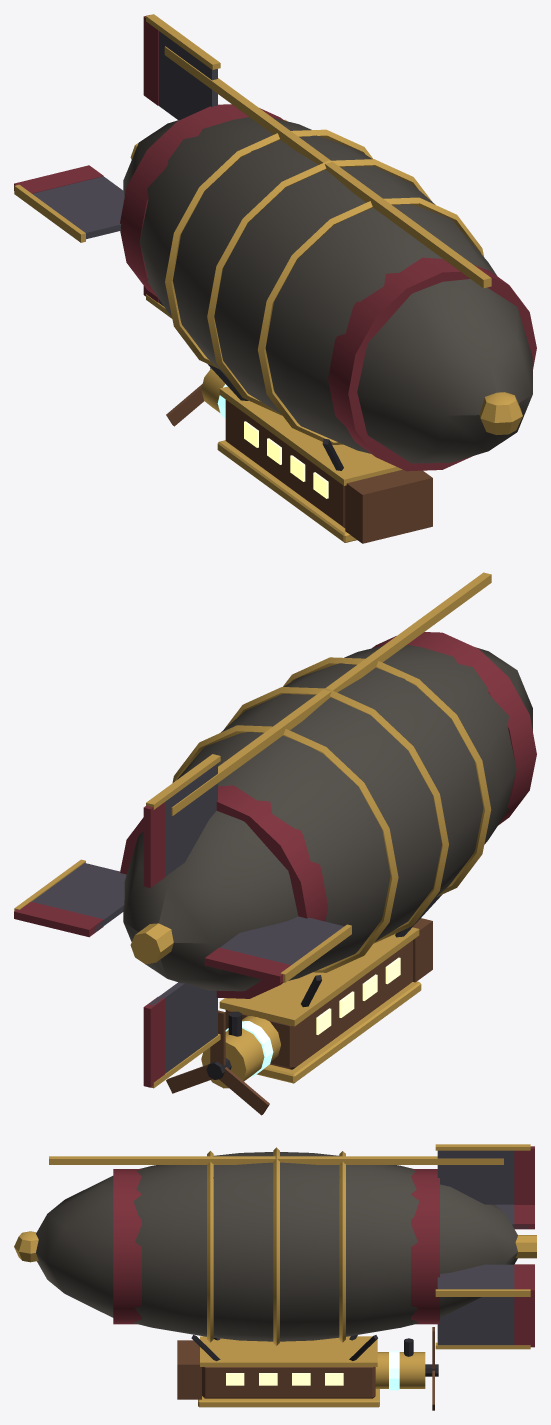
The model's file is Dirigivel.fbx.
The picture shows the model from 3 angles, top to bottom: view 1: azimuth 30°, elevation 25°; view 2: azimuth 150°, elevation 25°; view 3: azimuth 270°, elevation 25°; orthographic projection. The views are drawn at different scales.
Visible parts, largest first — view 1: Corpo, JanelaAndar0, Helice; view 2: Corpo, Helice, JanelaAndar0; view 3: Corpo, JanelaAndar0, CristalPulso, Helice.
Part boxes in pixels (left/top/right/bottom): Corpo: left=14, top=14, right=536, bottom=543; JanelaAndar0: left=244, top=421, right=328, bottom=498; Helice: left=166, top=367, right=210, bottom=426; Corpo: left=14, top=572, right=536, bottom=1088; Helice: left=166, top=1010, right=269, bottom=1115; JanelaAndar0: left=316, top=957, right=400, bottom=1034; Corpo: left=14, top=1144, right=536, bottom=1407; JanelaAndar0: left=226, top=1373, right=343, bottom=1385; CristalPulso: left=389, top=1350, right=399, bottom=1390; Helice: left=425, top=1327, right=438, bottom=1410.
Bounding box in the file's own units: 5.4 × 6.66 × 12.65.
